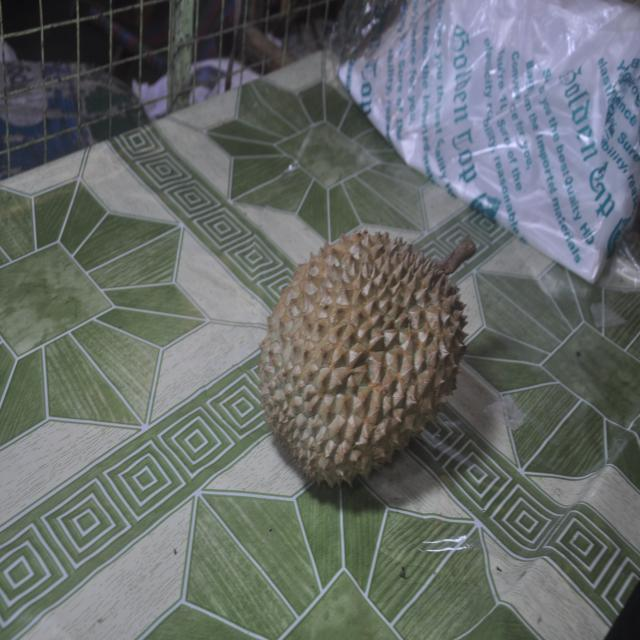mature: (260, 231, 475, 486)
